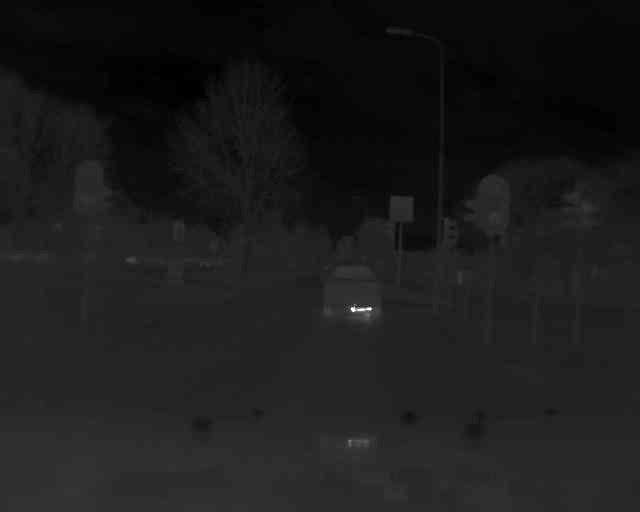car: (319, 256, 388, 323)
